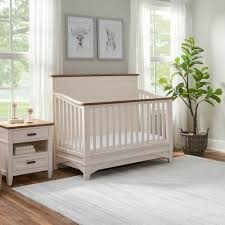crib: (53, 74, 172, 179)
